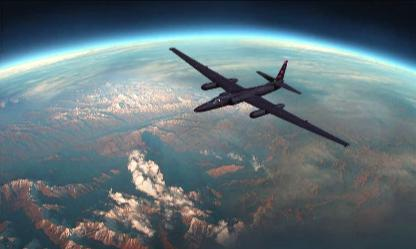Tu160: (167, 45, 349, 146)
